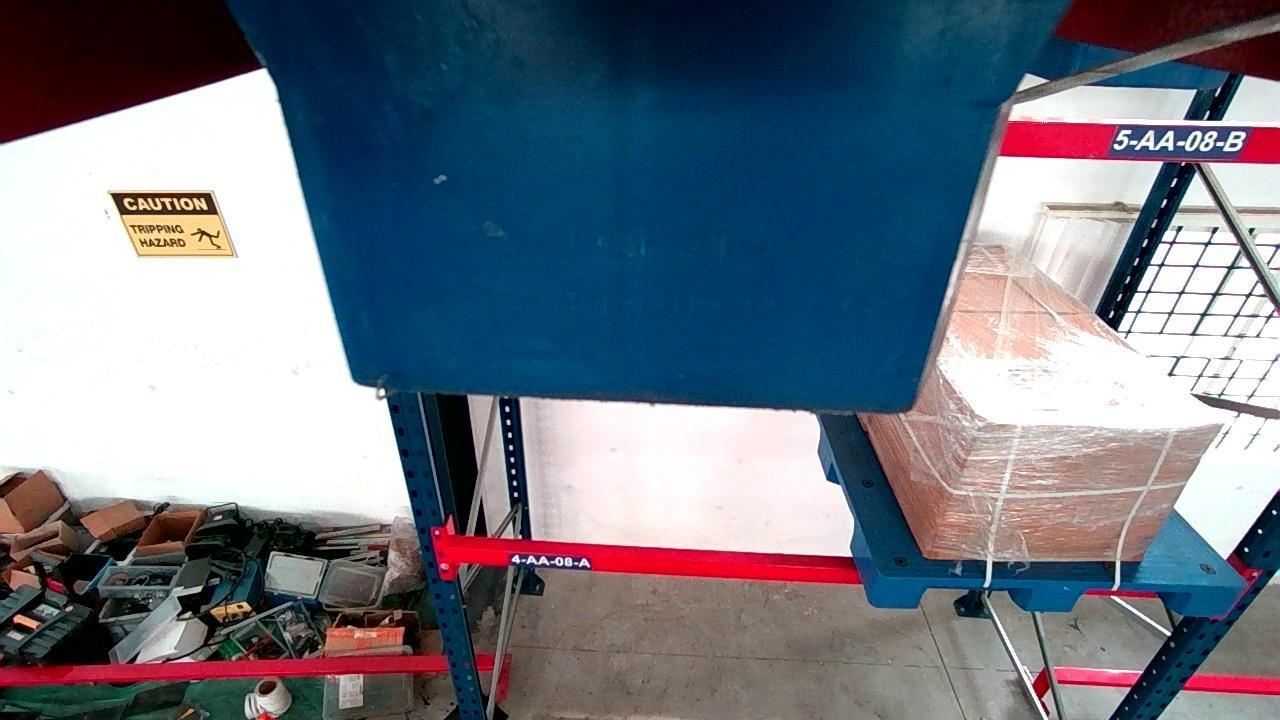h_rack: (451, 542, 857, 583), (996, 125, 1280, 164)
small_pallet: (870, 572, 1248, 616)
